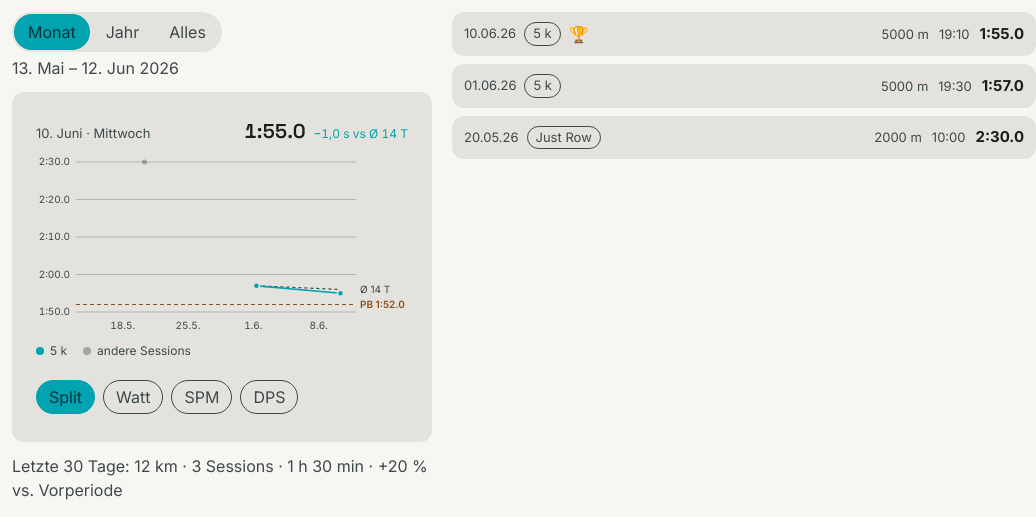
VerlaufTab › metric toggle switches the chart series
Check: the element with test id "progress-strip" is shown, box [36,116,408,154]
Click the tab "Watt". click: (133, 397)
box: [103,380,163,414]
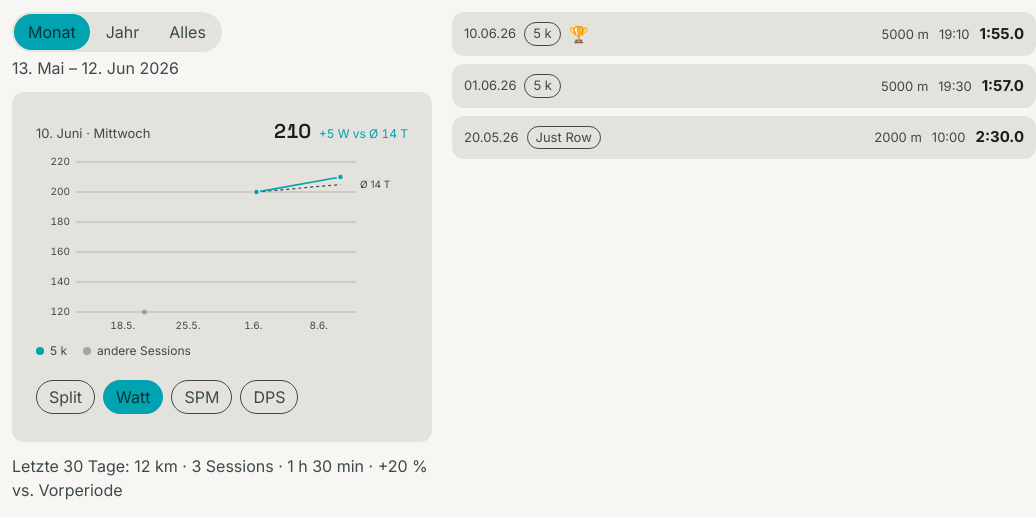
Check: the element with test id "progress-strip" shows "210", box [274,118,311,144]
